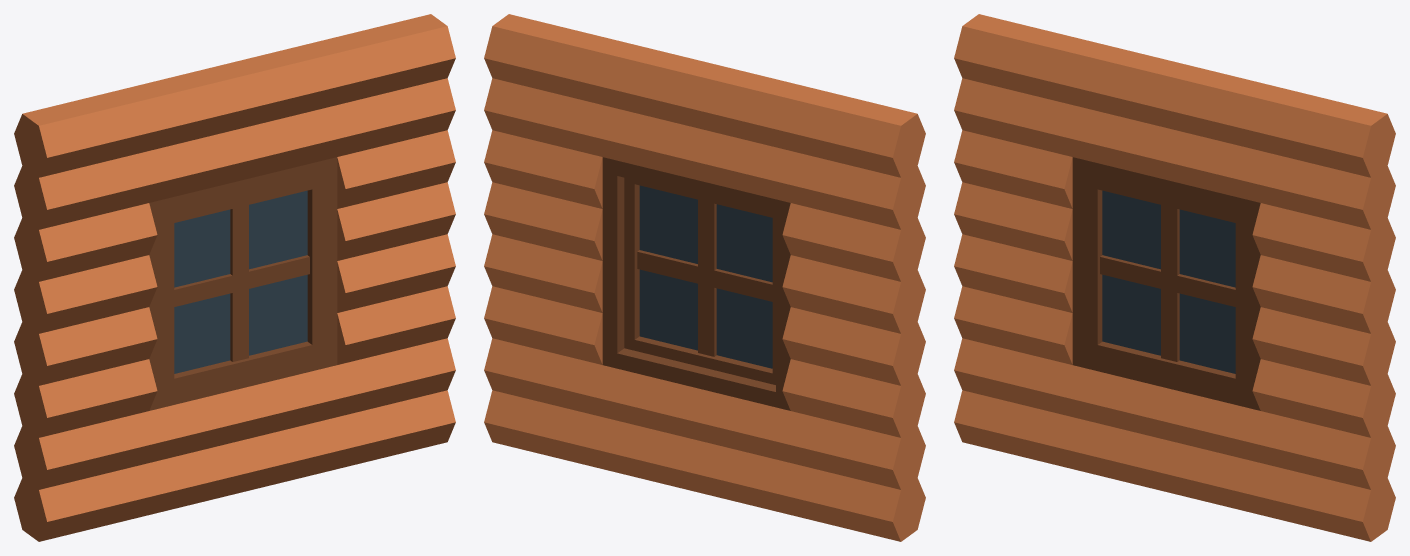
Rendered from cabinWindow.fbx.
The picture shows the model from 3 angles, left to right: view 1: azimuth 30°, elevation 25°; view 2: azimuth 150°, elevation 25°; view 3: azimuth 330°, elevation 25°; orthographic projection.
Parts seen in each view (by area): view 1: cabinWindow, frame; view 2: cabinWindow, frame; view 3: cabinWindow, frame.
Boxes of the visible parts, x1,y1,x2,y2 form: cabinWindow: (14, 14, 455, 541); frame: (149, 157, 337, 410); cabinWindow: (484, 14, 925, 541); frame: (602, 157, 790, 410); cabinWindow: (954, 14, 1395, 541); frame: (1072, 157, 1260, 410).
Bounding box in the file's own units: 10 × 9.73 × 1.4.
